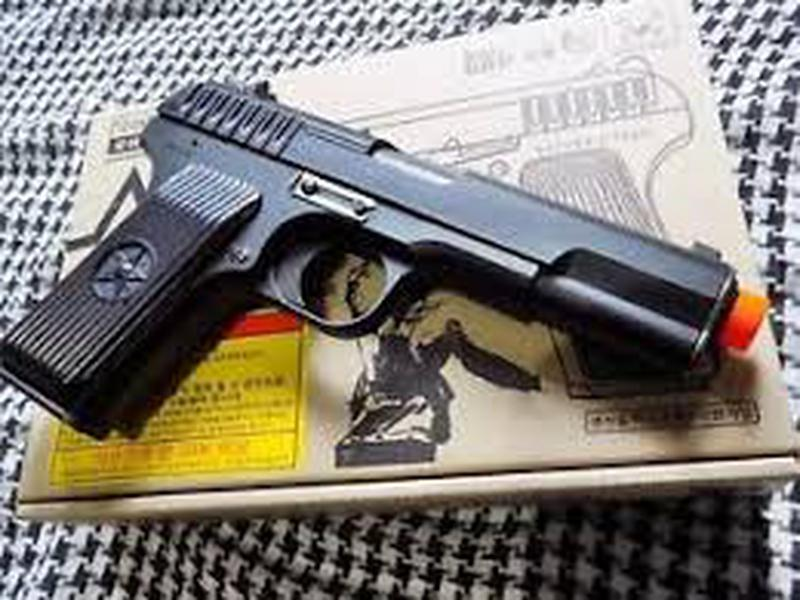gun: (13, 75, 758, 434)
